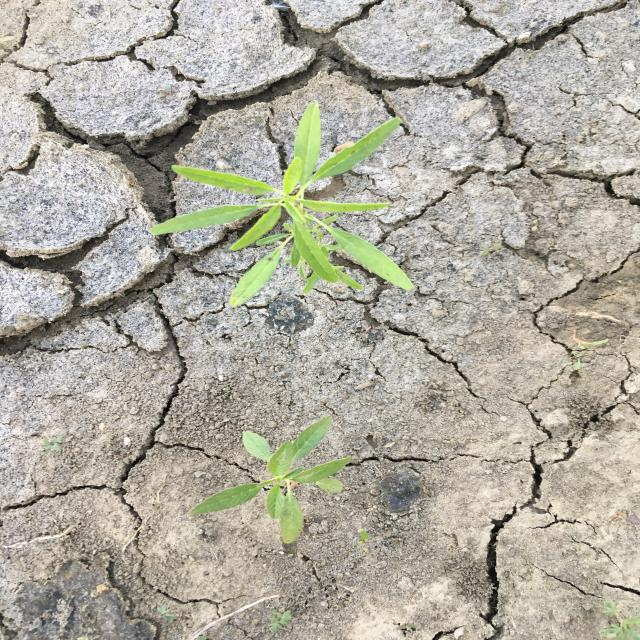Waterhemp: (145, 99, 417, 311), (185, 414, 354, 547)
